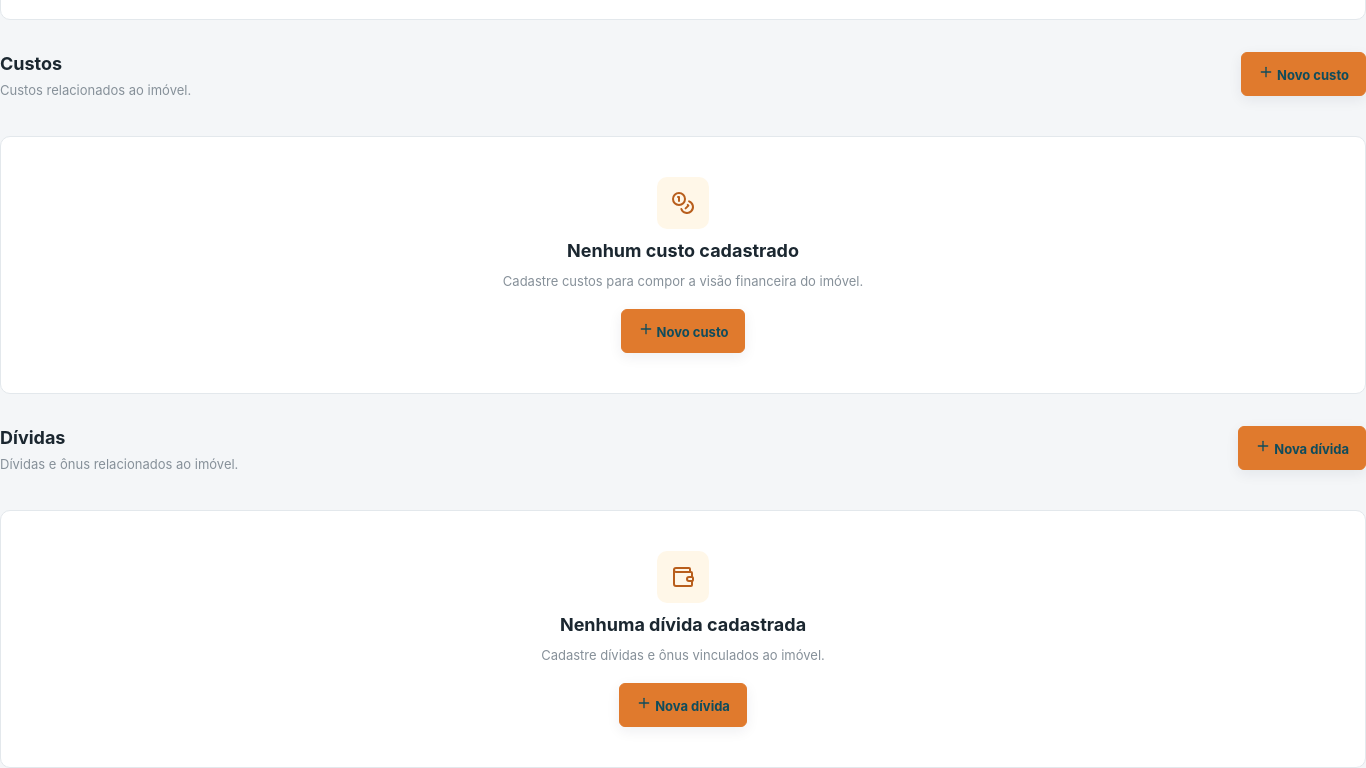
Scenario: FinancialSection › valida obrigatório e cadastra uma dívida
(page scrolled)
Expected: the heading "Nenhuma dívida cadastrada" is shown, [560,614,806,635]
Click the button "Nova dívida" in the row of "Dívidas e ônus relacionados ao imóvel.".
click(1302, 448)  # box [1238,426,1365,470]
(page scrolled)
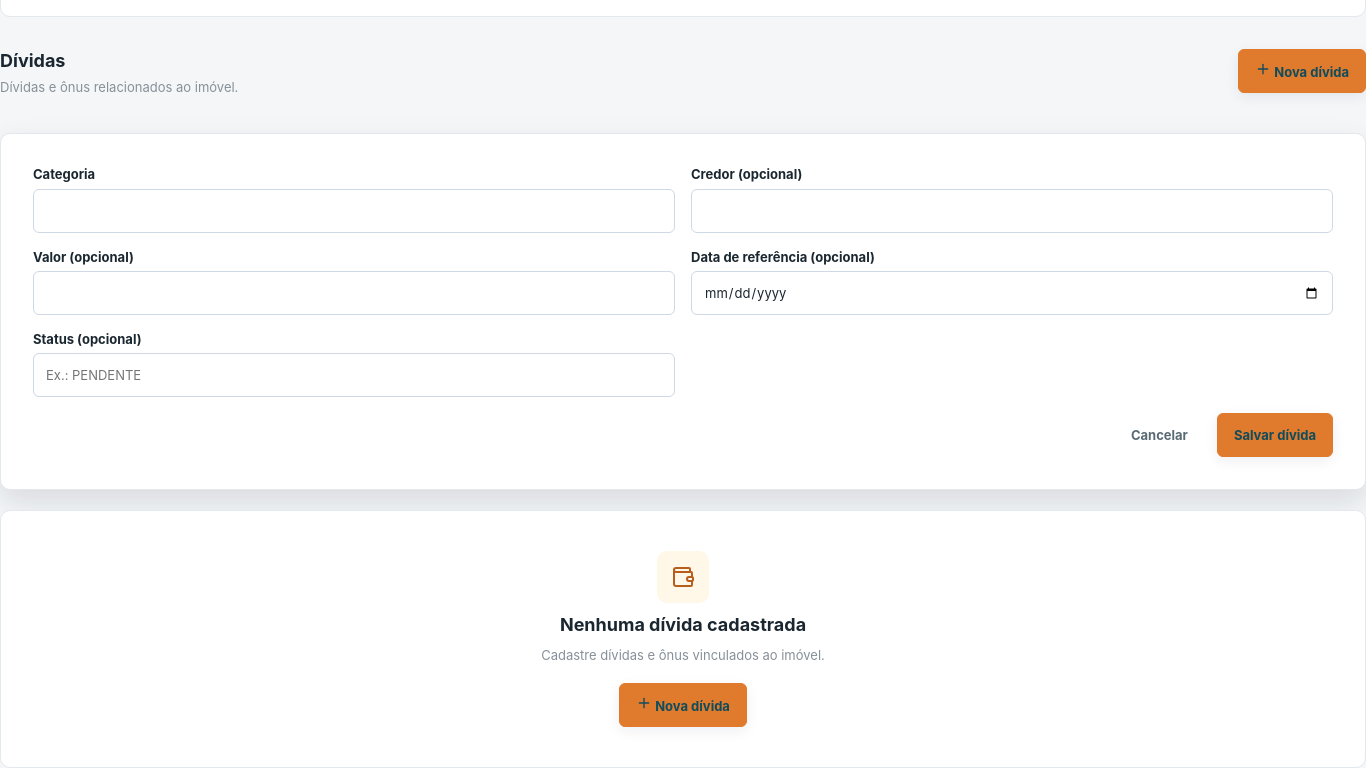
Click the button "Salvar dívida".
click(1275, 435)  # box [1217,413,1333,457]
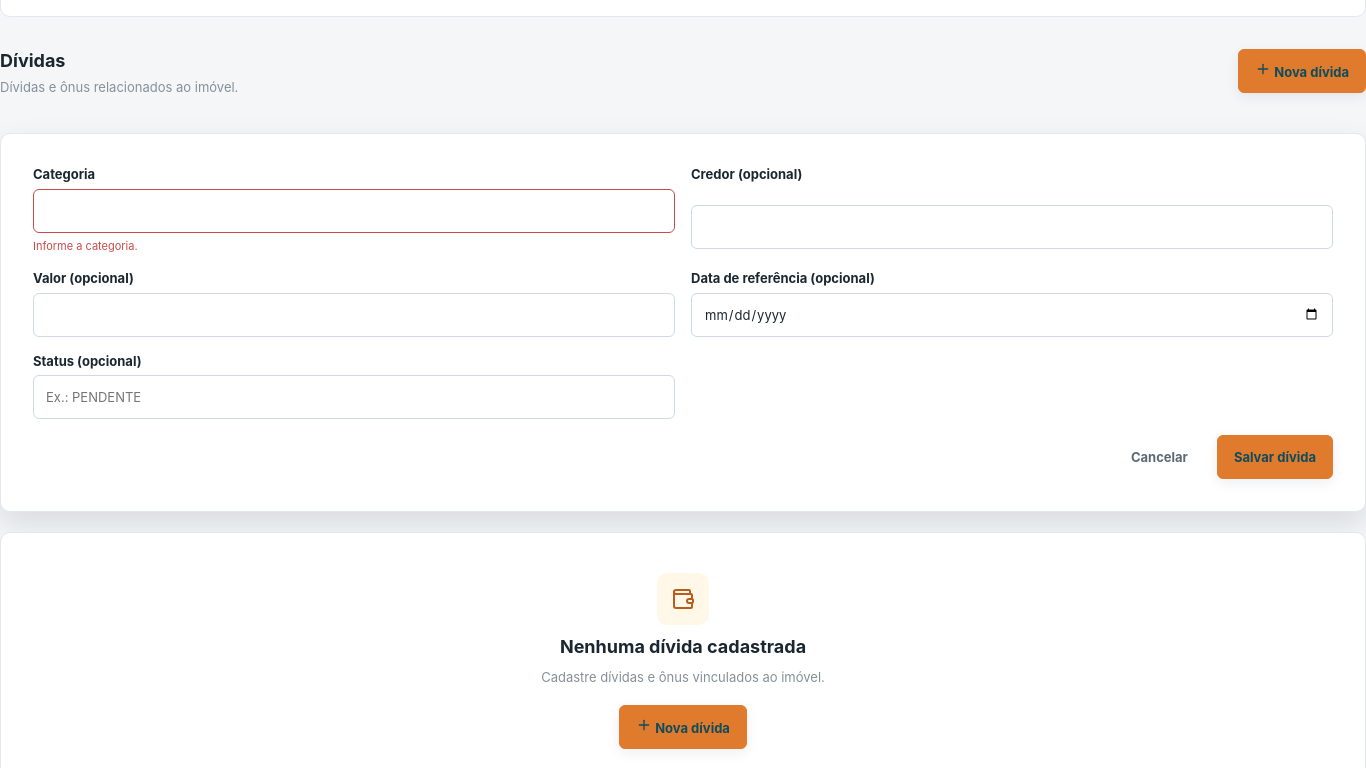
Now the text "Informe a categoria." is shown, box [33,239,138,253]
Type "CONDOMINIO" into the field labelled "Categoria".
click(354, 211); type("CONDOMINIO")  # box [33,189,675,233]
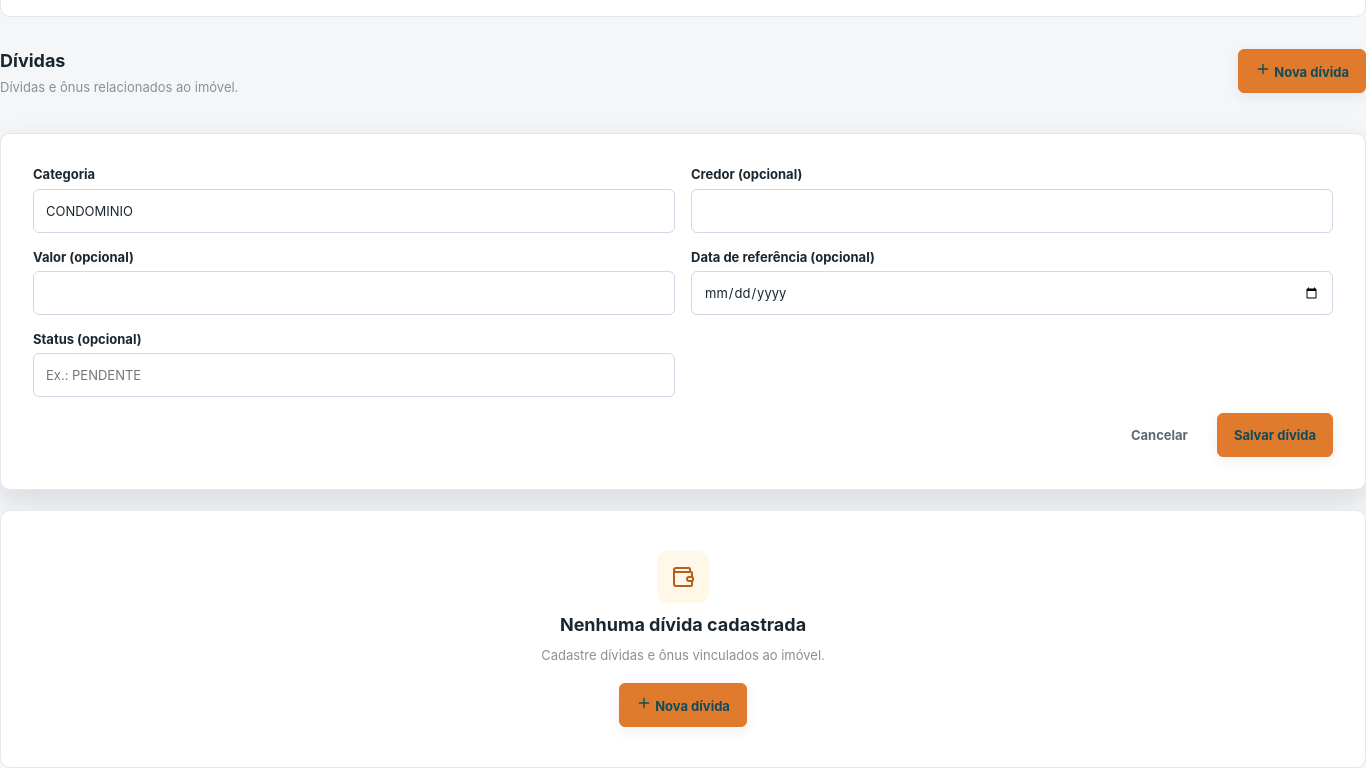
Click the button "Salvar dívida".
click(1275, 435)  # box [1217,413,1333,457]
(page scrolled)
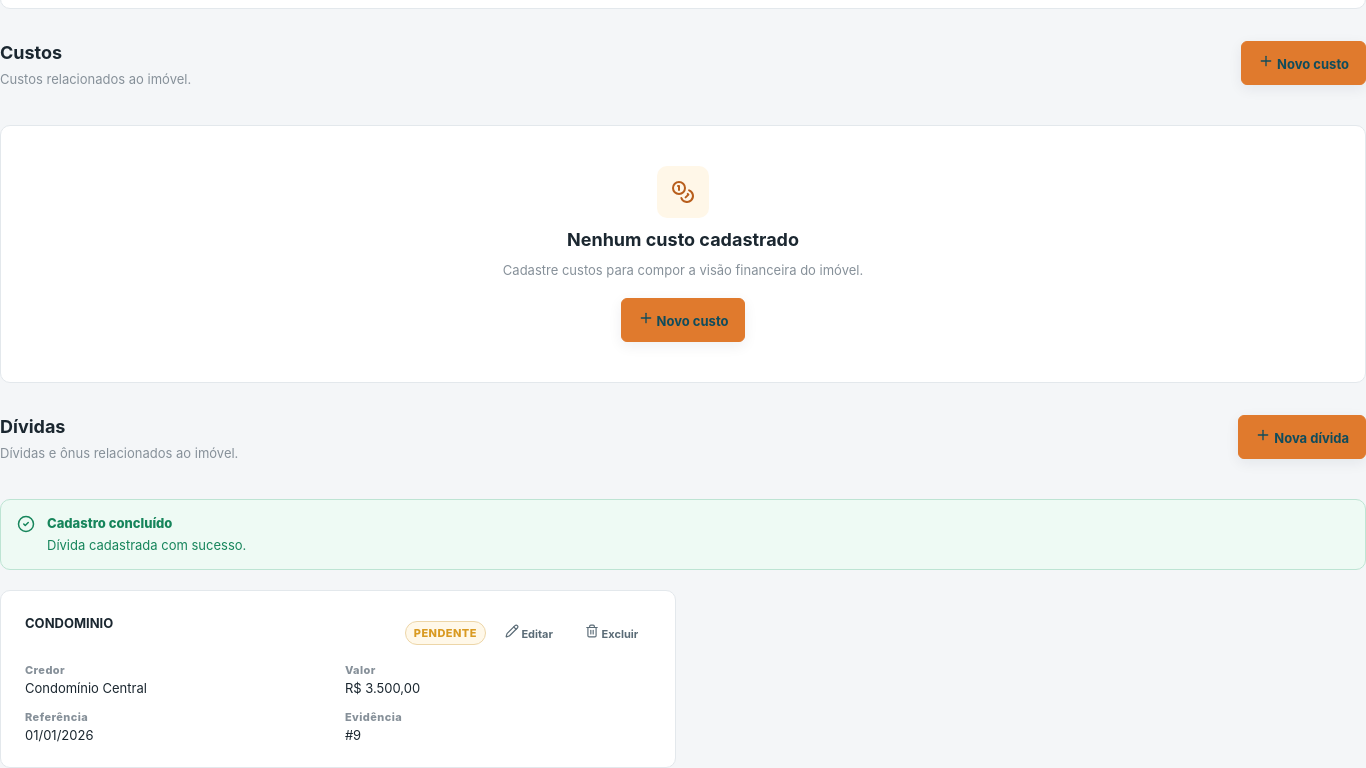
Now the text "Dívida cadastrada com sucesso." is shown, box [47,537,246,553]
Now the text "CONDOMINIO" is shown, box [25,615,113,631]
